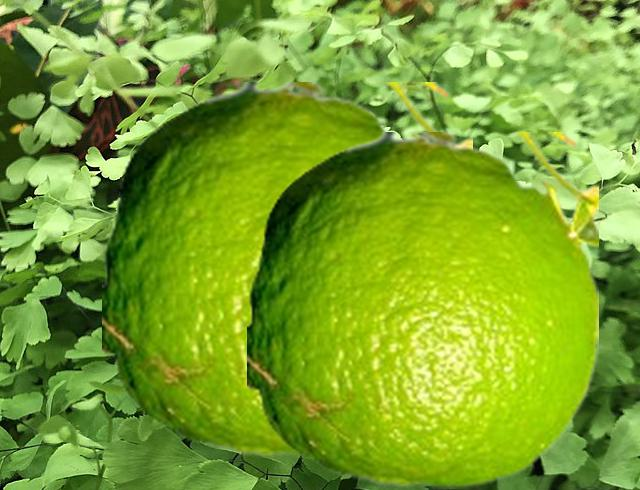dalandan: (102, 82, 471, 457), (247, 132, 597, 487)
